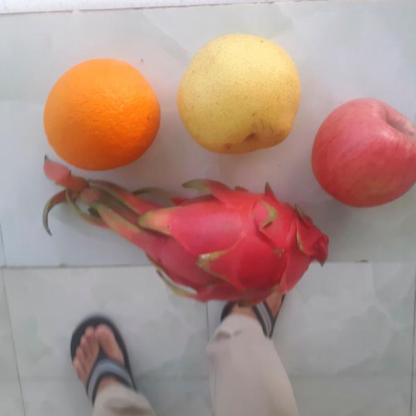apple: (312, 97, 416, 207)
orange: (38, 57, 162, 170)
pear: (175, 30, 308, 155)
pitaya: (151, 183, 337, 304)
